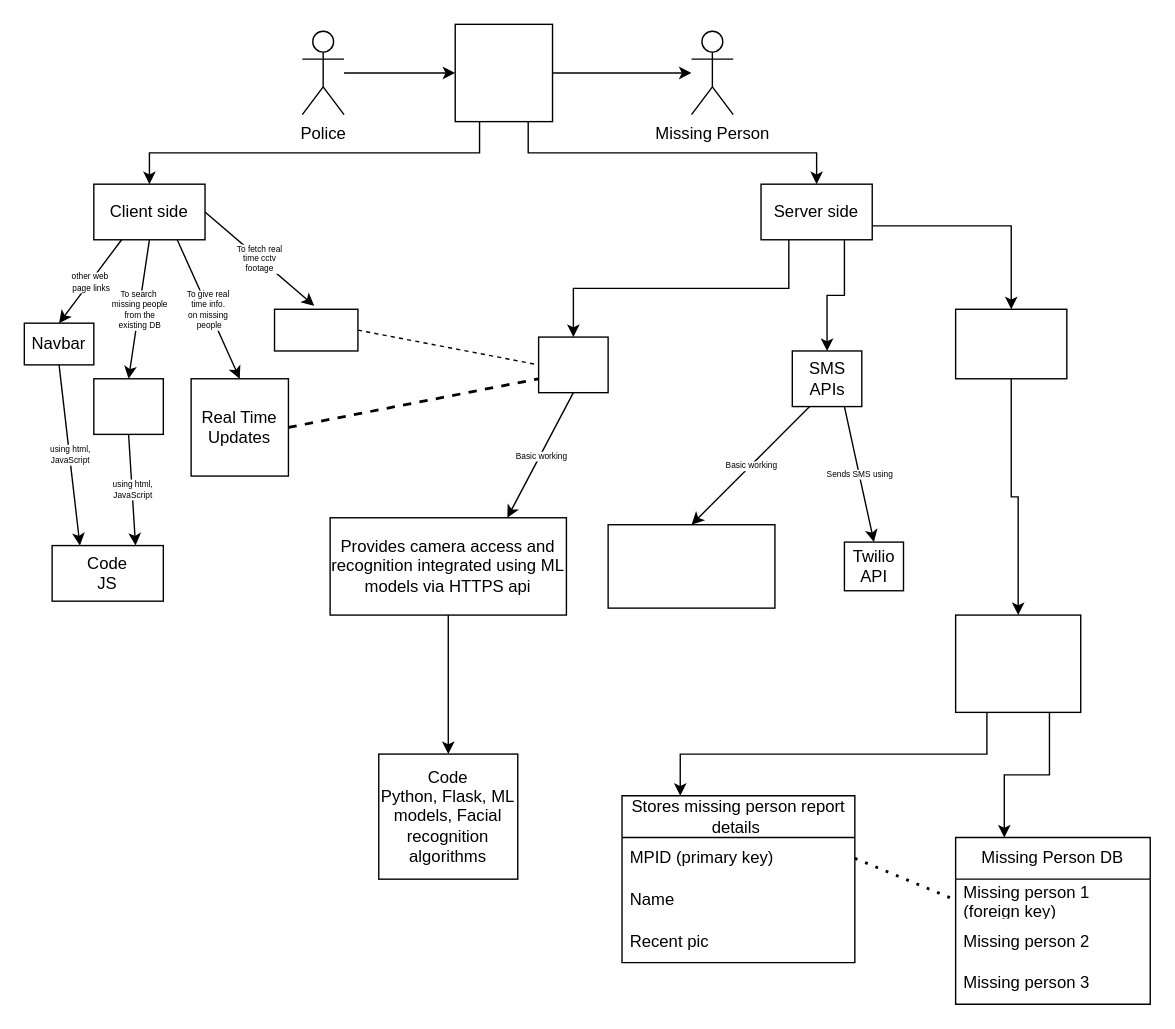
Some shapes in this 1175 by 1029 pixel diagram are drawn without their labels. The shapes that lost their labels are listed below. From the top down, each one's centre as x and y in pixels, then its label:
(x=503, y=72): MPIATUAI [Single page application]
(x=315, y=329): Cameras
(x=1010, y=343): DBs
(x=572, y=364): Socket APIs
(x=127, y=405): Search bar
(x=691, y=565): Makes API calls to SMS system to engage the local community
(x=1017, y=663): DBs like MySQL, MongoDB
